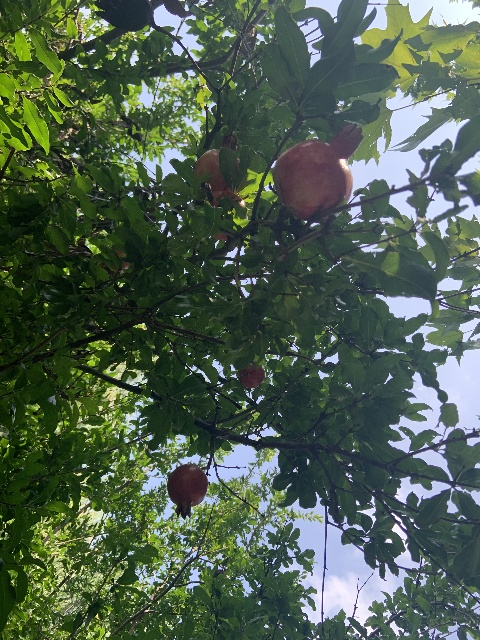ripe: (272, 123, 363, 222), (193, 132, 240, 192), (167, 463, 208, 519), (203, 190, 247, 241), (98, 249, 130, 274), (238, 364, 265, 388)
